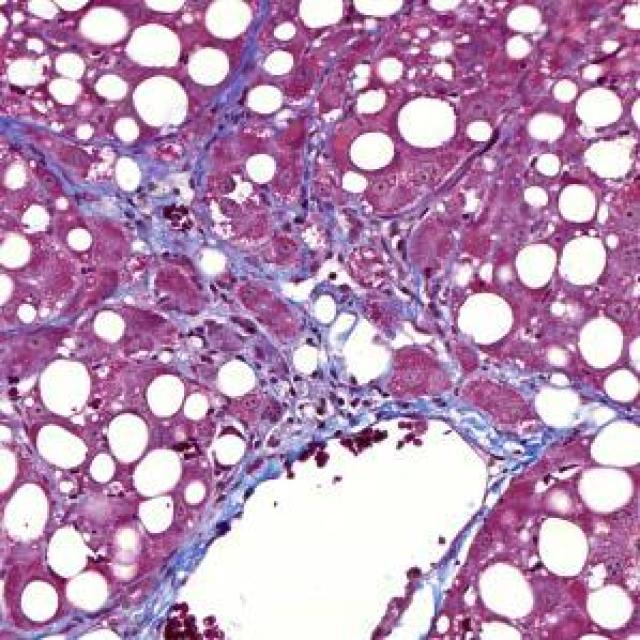fibrosis: (169, 203, 456, 392)
